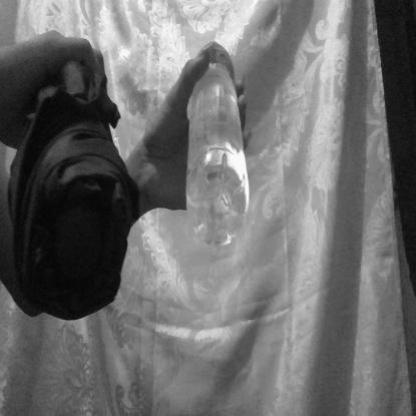Plastic Bottle: (173, 39, 261, 290)
